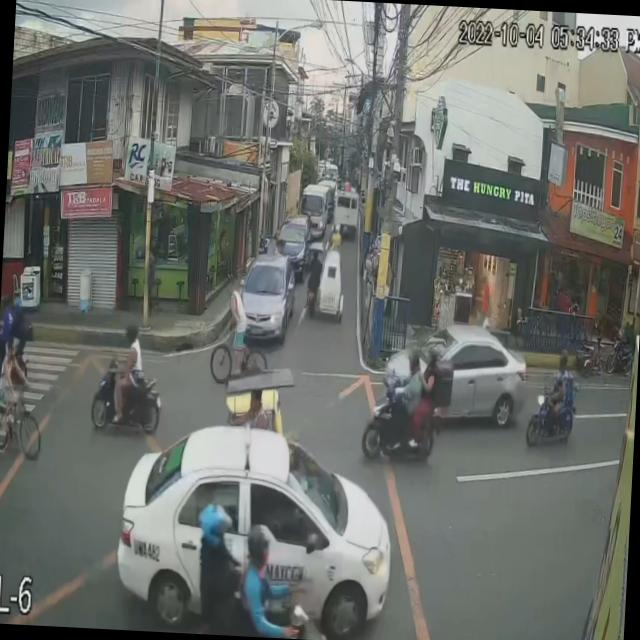full: (197, 501, 234, 548), (124, 318, 140, 346)
half: (246, 521, 277, 566)
not_wearing: (428, 348, 438, 368)
